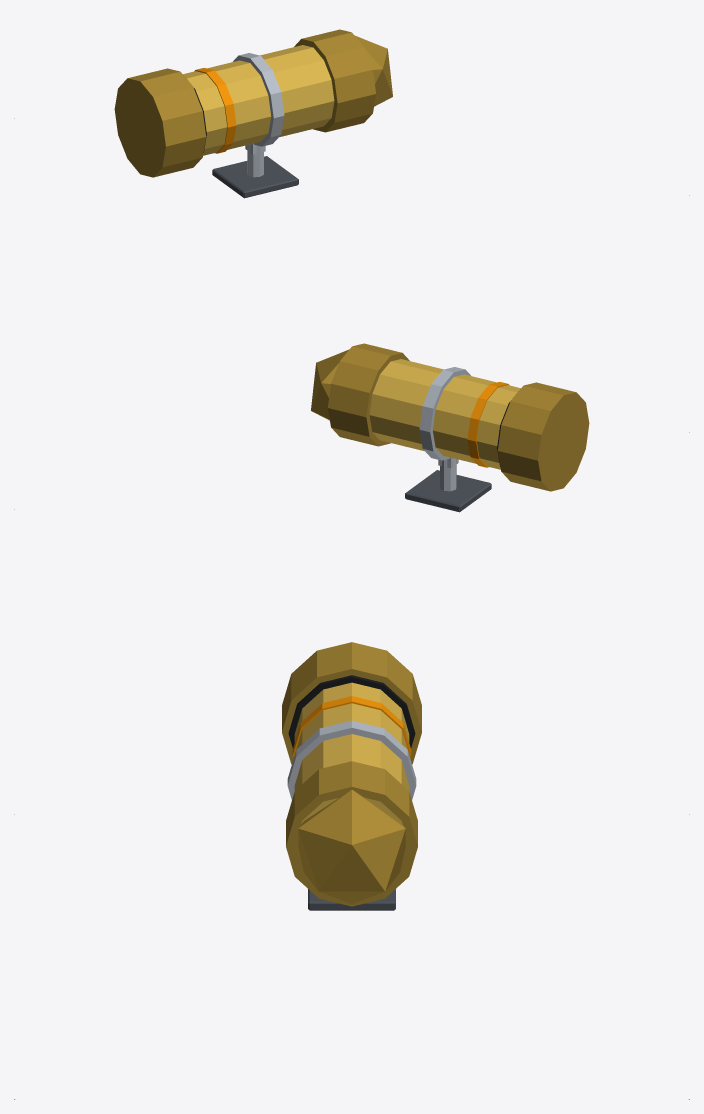
Rendered from tuyau_bout_t2.glb.
The picture shows the model from 3 angles, top to bottom: view 1: azimuth 30°, elevation 25°; view 2: azimuth 150°, elevation 25°; view 3: azimuth 270°, elevation 25°; orthographic projection. The views are drawn at different scales.
Parts seen in each view (by area): view 1: pieces_laiton_sombre.014, pieces_laiton.014, pieces_gris_clair.014, pieces_acier_sombre.050, pieces_rive_t2.016; view 2: pieces_laiton_sombre.014, pieces_laiton.014, pieces_gris_clair.014, pieces_acier_sombre.050, pieces_rive_t2.016; view 3: pieces_laiton_sombre.014, pieces_laiton.014, pieces_gris_clair.014, pieces_noir.022, pieces_rive_t2.016, pieces_acier_sombre.050.
Boxes of the visible parts, x1,y1,x2,y2 form: pieces_laiton_sombre.014: [114, 29, 392, 177]; pieces_laiton.014: [183, 45, 334, 155]; pieces_gris_clair.014: [233, 53, 284, 177]; pieces_acier_sombre.050: [212, 156, 298, 198]; pieces_rive_t2.016: [194, 68, 236, 153]; pieces_laiton_sombre.014: [311, 343, 589, 491]; pieces_laiton.014: [369, 359, 520, 469]; pieces_gris_clair.014: [419, 367, 470, 491]; pieces_acier_sombre.050: [405, 470, 491, 512]; pieces_rive_t2.016: [467, 382, 509, 467]; pieces_laiton_sombre.014: [282, 642, 421, 906]; pieces_laiton.014: [294, 682, 409, 835]; pieces_gris_clair.014: [287, 720, 416, 799]; pieces_noir.022: [288, 675, 415, 747]; pieces_rive_t2.016: [292, 696, 411, 757]; pieces_acier_sombre.050: [308, 889, 395, 910].
Bounding box in the file's own units: 1 × 0.2837 × 1.
